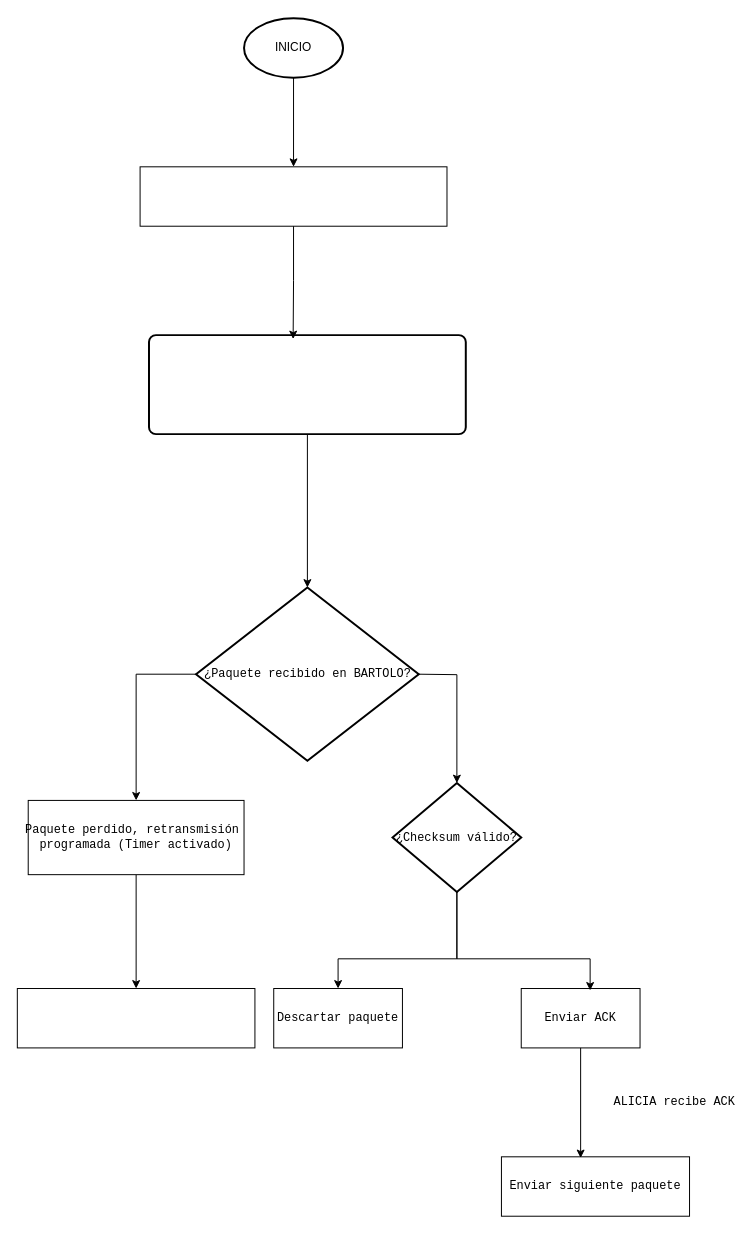
This 756x1234 diagram has some shape labels left out. Here are the shapes that lost their labels. From the top down, the box of each, then its label:
(139, 166, 447, 226): A crea un paquete con datos y checksum
(148, 334, 466, 435): Paquete enviado al medio no fiable (Capa 3)
(16, 988, 255, 1048): Retransmitir paquete desde ALICIA
